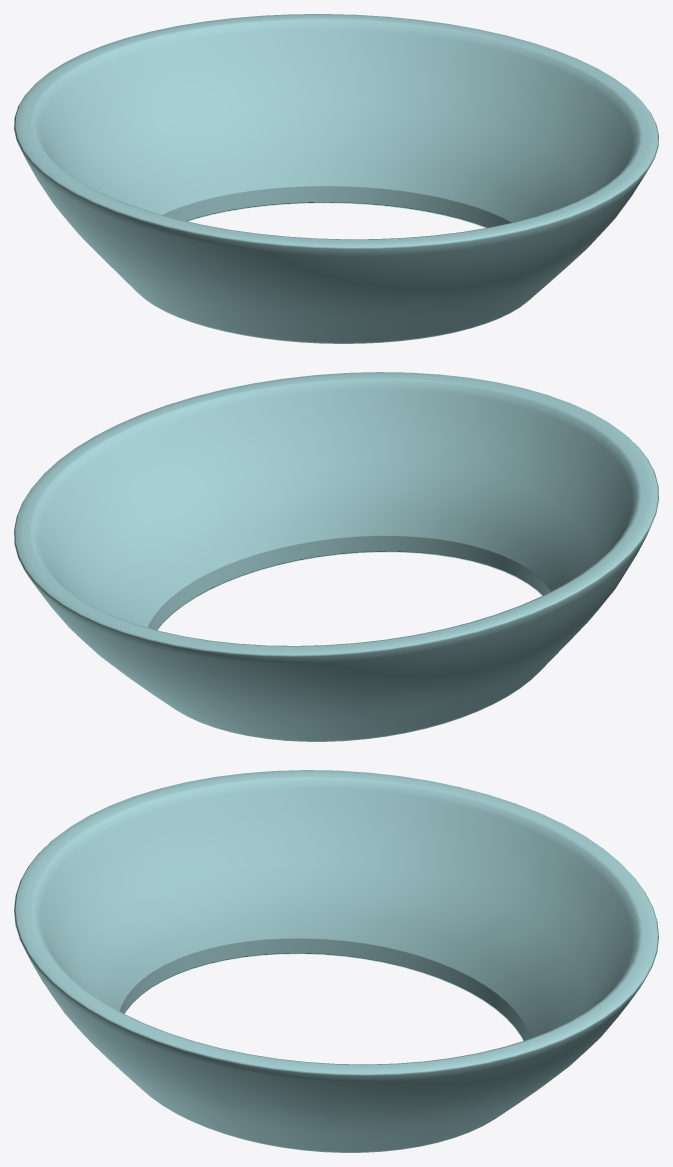
3 views of the same model, one above another, from view 1: azimuth 30°, elevation 25°; view 2: azimuth 150°, elevation 25°; view 3: azimuth 270°, elevation 25° (orthographic).
Visible parts, largest first — view 1: 右侧眼球前段; view 2: 右侧眼球前段; view 3: 右侧眼球前段.
Boxes of the visible parts, x1,y1,x2,y2 form: 右侧眼球前段: (14,14,658,343); 右侧眼球前段: (14,372,658,741); 右侧眼球前段: (14,770,658,1152).
Bounding box in the file's own units: 0.0325 × 0.00968 × 0.0325.
